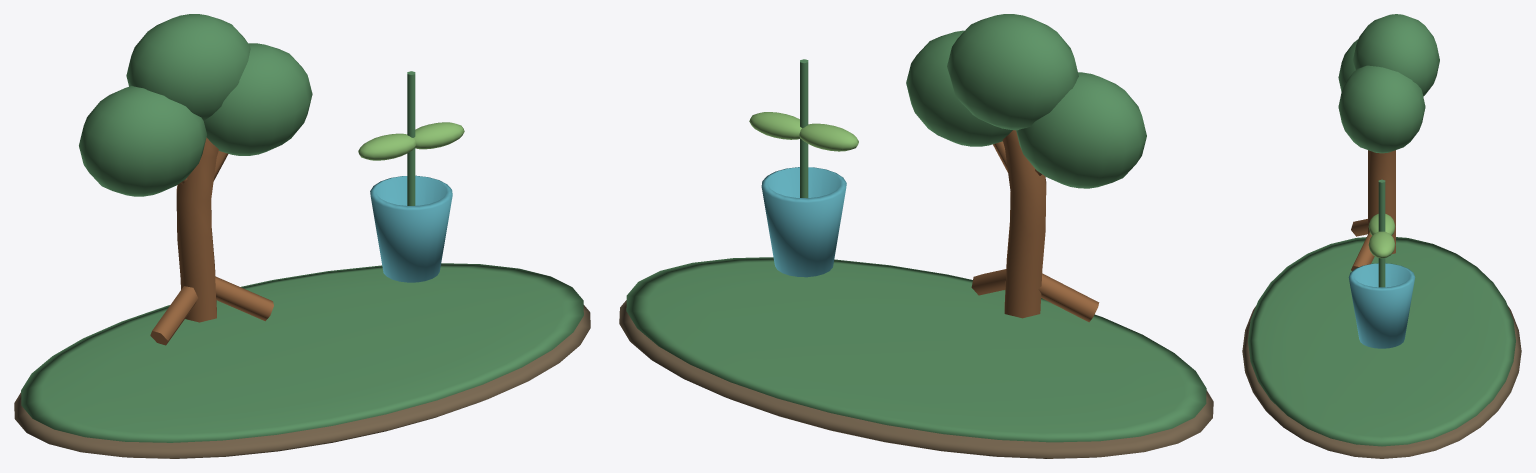
File: growing-plant.glb
3 renders of one model, left to right at view 1: azimuth 30°, elevation 25°; view 2: azimuth 150°, elevation 25°; view 3: azimuth 270°, elevation 25°, orthographic. The views are drawn at different scales.
Visible parts, largest first — view 1: growing-plant_surface_01, growing-plant_surface_00, growing-plant_surface_02, growing-plant_surface_04, growing-plant_surface_03; view 2: growing-plant_surface_01, growing-plant_surface_00, growing-plant_surface_02, growing-plant_surface_04, growing-plant_surface_03; view 3: growing-plant_surface_01, growing-plant_surface_00, growing-plant_surface_04, growing-plant_surface_02, growing-plant_surface_03.
Part boxes in pixels (x1=…): growing-plant_surface_01: x1=21, y1=14, x2=583, y2=442; growing-plant_surface_00: x1=14, y1=305, x2=590, y2=458; growing-plant_surface_02: x1=150, y1=137, x2=273, y2=345; growing-plant_surface_04: x1=370, y1=175, x2=452, y2=282; growing-plant_surface_03: x1=358, y1=122, x2=464, y2=160; growing-plant_surface_01: x1=626, y1=14, x2=1206, y2=442; growing-plant_surface_00: x1=619, y1=300, x2=1213, y2=458; growing-plant_surface_02: x1=971, y1=130, x2=1099, y2=322; growing-plant_surface_04: x1=761, y1=167, x2=846, y2=277; growing-plant_surface_03: x1=749, y1=112, x2=858, y2=151; growing-plant_surface_01: x1=1248, y1=14, x2=1515, y2=446; growing-plant_surface_00: x1=1242, y1=306, x2=1521, y2=458; growing-plant_surface_04: x1=1348, y1=263, x2=1415, y2=348; growing-plant_surface_02: x1=1351, y1=150, x2=1395, y2=270; growing-plant_surface_03: x1=1368, y1=214, x2=1395, y2=258.
Size of the model in its own units: 4.56 by 3.01 by 2.5.
